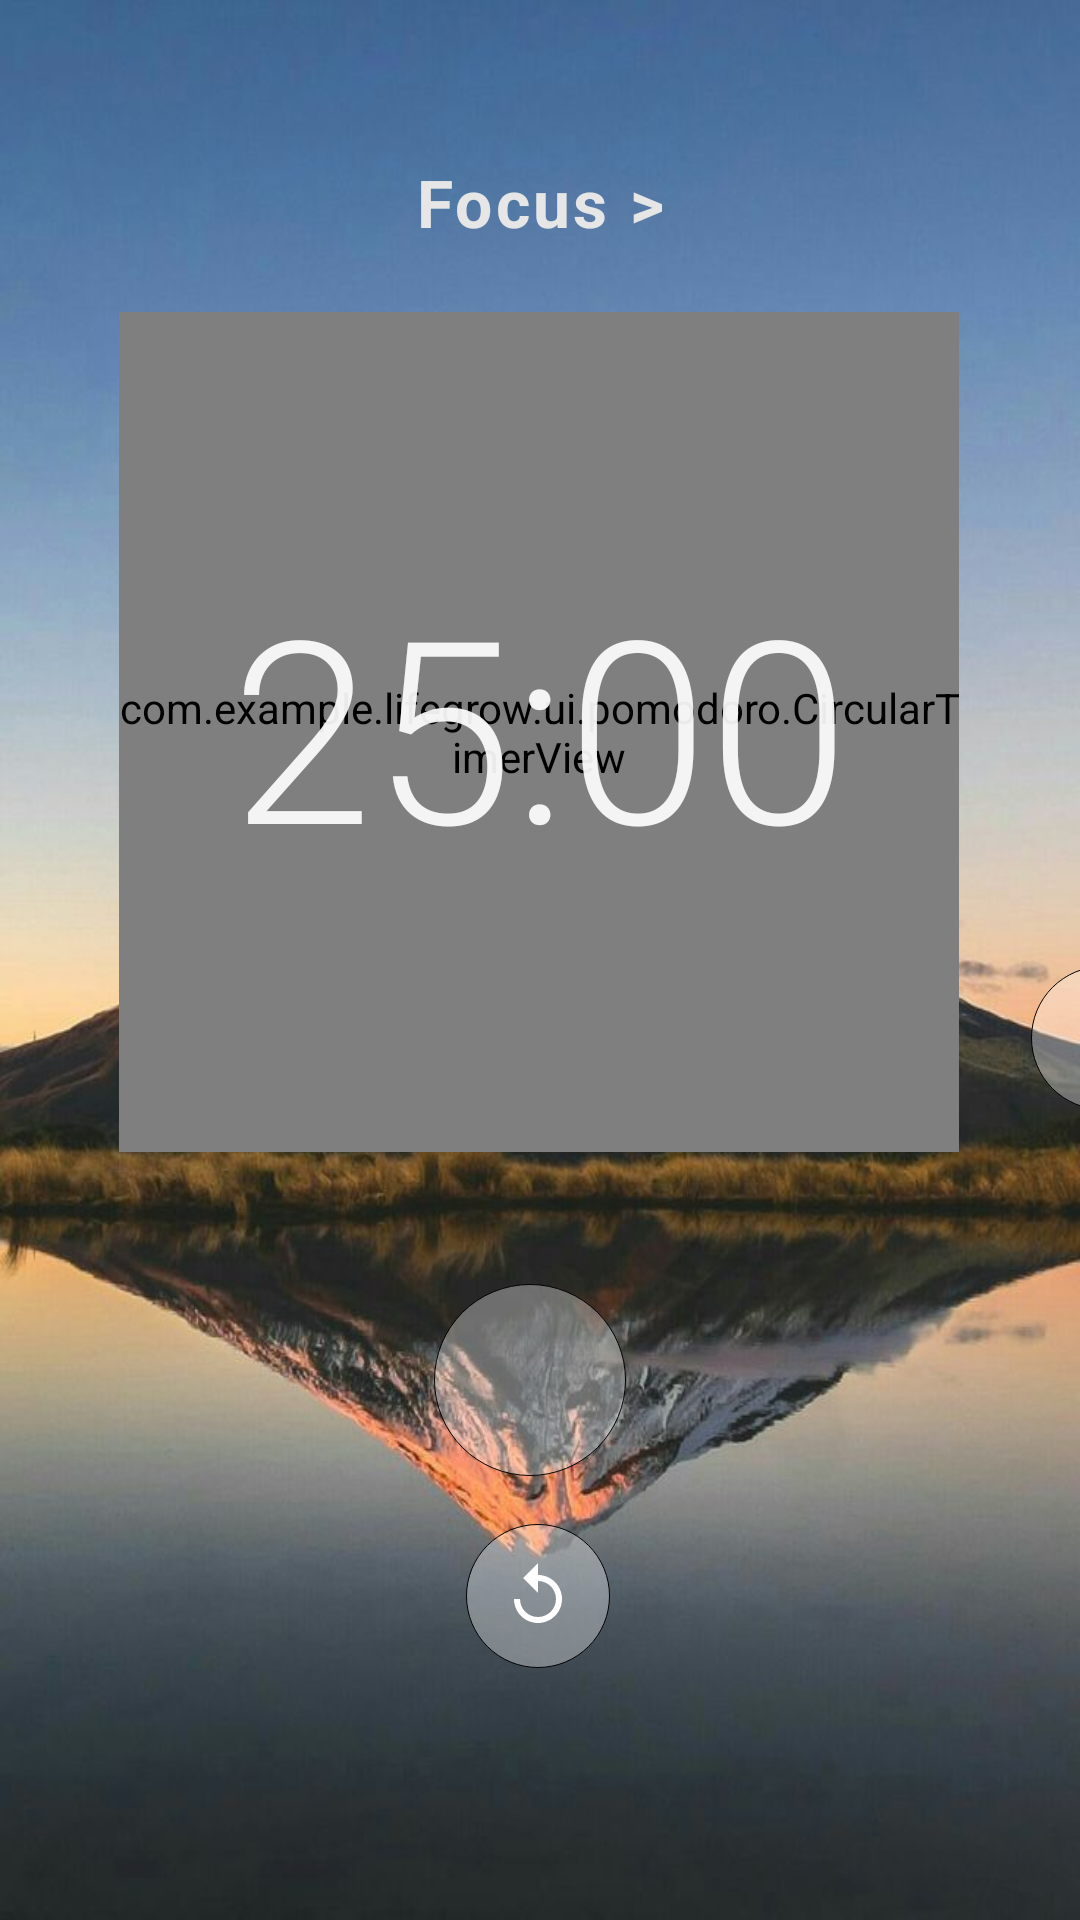

Point at icon controls on the screen. Image size 1080px×1920px, points as (x=x, y=y).
reset: (x=538, y=1596)
